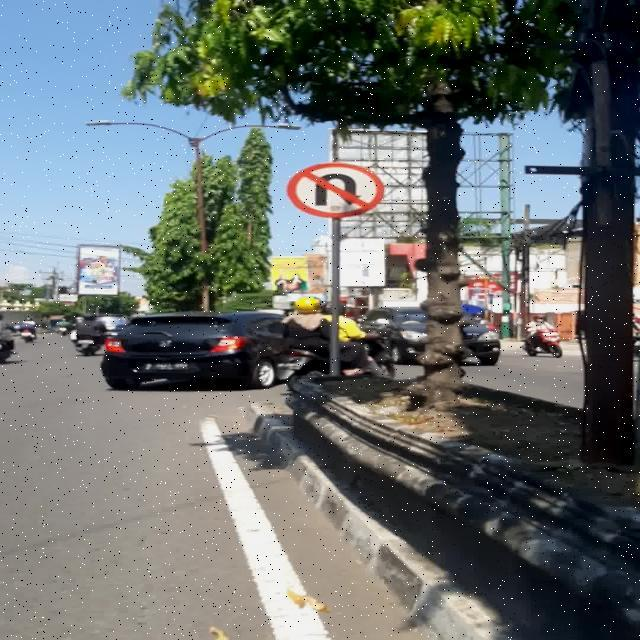Dilarang Putar Balik: (286, 162, 384, 218)
